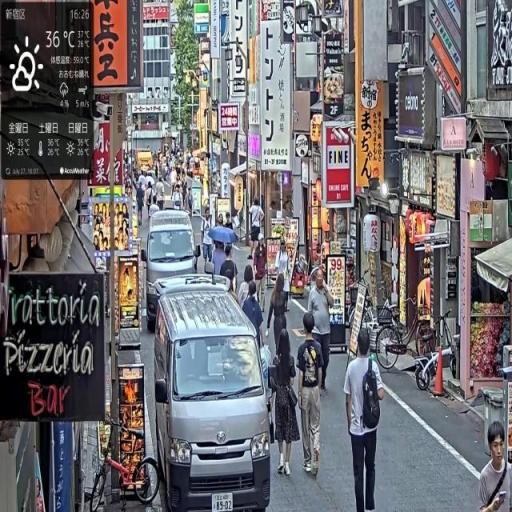person: (343, 326, 385, 512), (297, 312, 325, 479), (270, 331, 301, 480), (308, 267, 335, 398), (480, 422, 511, 512), (267, 274, 290, 362), (254, 233, 269, 311), (220, 245, 241, 296)
